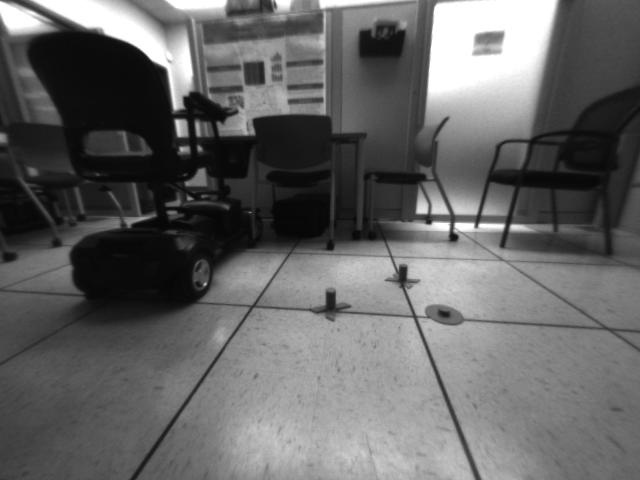X: (312, 289, 350, 321), (386, 262, 419, 287)
